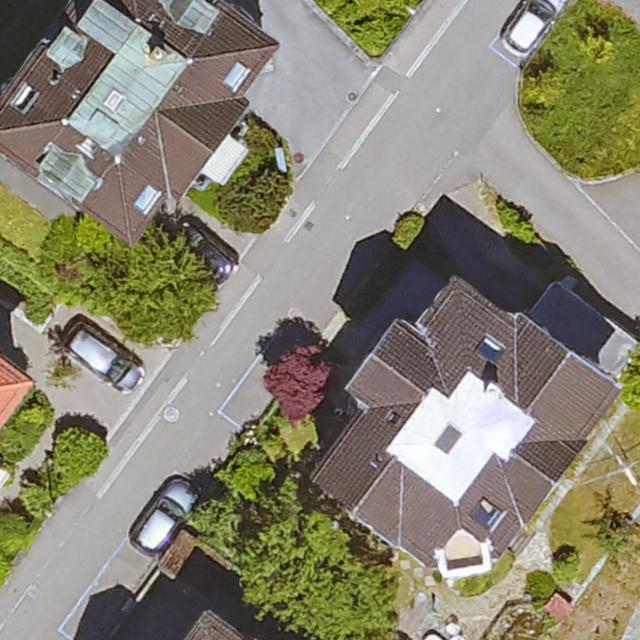tree: (235, 509, 393, 640), (110, 228, 215, 342), (264, 346, 333, 417), (217, 164, 290, 231), (225, 447, 276, 500), (51, 428, 105, 478), (190, 499, 238, 546), (623, 334, 640, 415)
